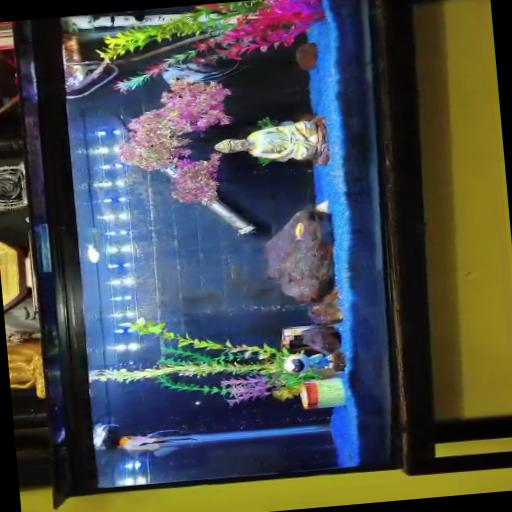Fish: (119, 429, 193, 454), (162, 62, 238, 83), (93, 423, 118, 449), (295, 222, 305, 238)
